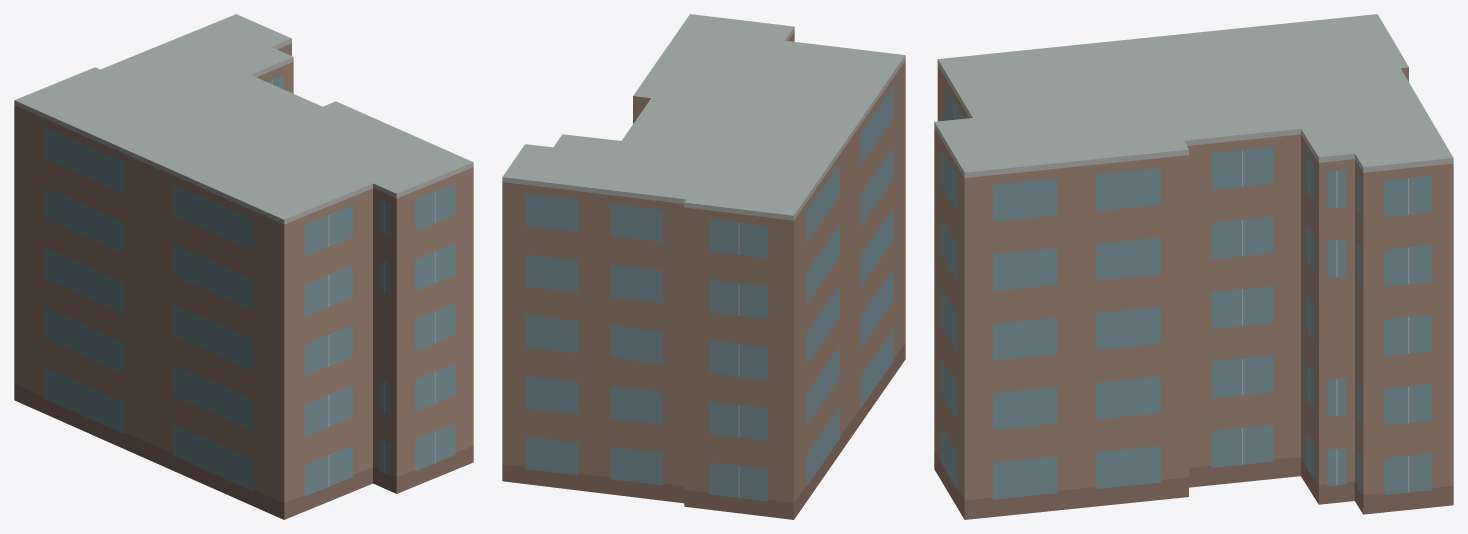
Rendered from survey-upis-32598018.glb.
3 views of the same model, side by side, from view 1: azimuth 30°, elevation 25°; view 2: azimuth 150°, elevation 25°; view 3: azimuth 270°, elevation 25° (orthographic). The views are drawn at different scales.
Visible parts, largest first — view 1: survey-upis-32598018.tmp; view 2: survey-upis-32598018.tmp; view 3: survey-upis-32598018.tmp.
Part boxes in pixels (<box>): survey-upis-32598018.tmp: <box>14,14,473,519</box>; survey-upis-32598018.tmp: <box>502,14,905,519</box>; survey-upis-32598018.tmp: <box>934,14,1453,519</box>.
Size of the model in its own units: 15 by 15.3 by 20.74.
